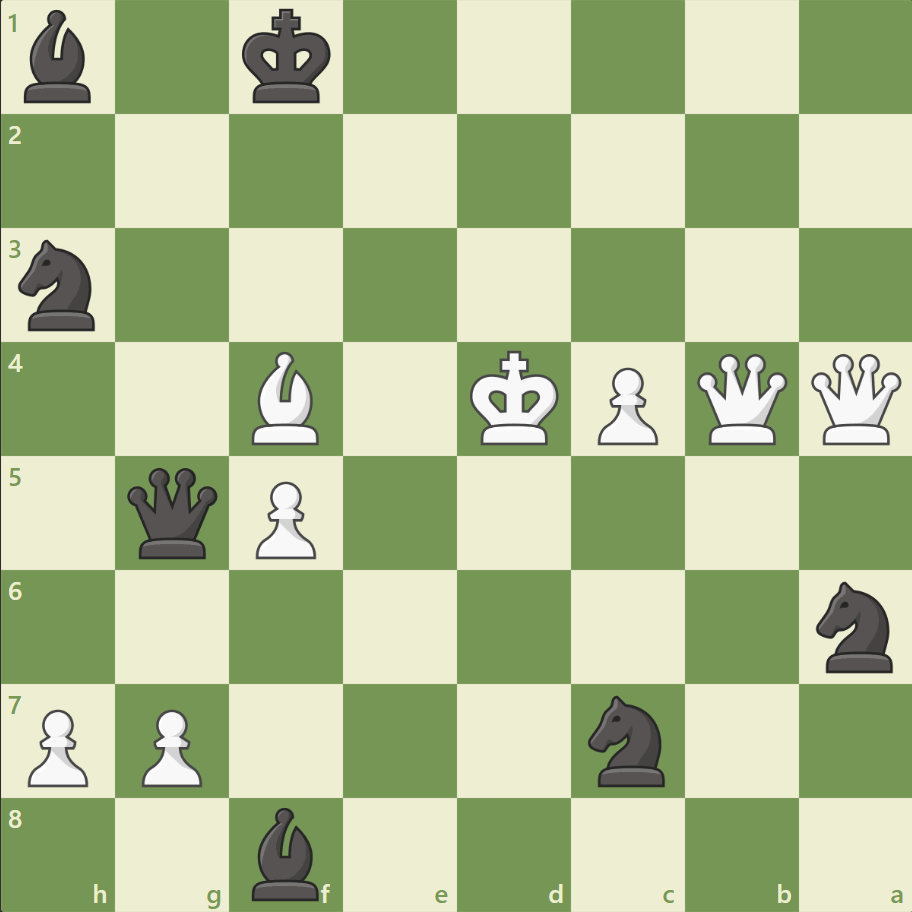B: (244, 347, 328, 449)
K: (465, 344, 565, 452)
P: (133, 700, 208, 791), (20, 700, 95, 791), (247, 473, 322, 564), (588, 359, 662, 450)
Q: (805, 349, 904, 449), (691, 349, 790, 449)
b: (244, 801, 328, 904), (17, 6, 101, 109)
k: (238, 4, 338, 112)
n: (579, 688, 676, 791), (11, 234, 108, 337), (806, 575, 903, 677)
q: (124, 463, 223, 562)
